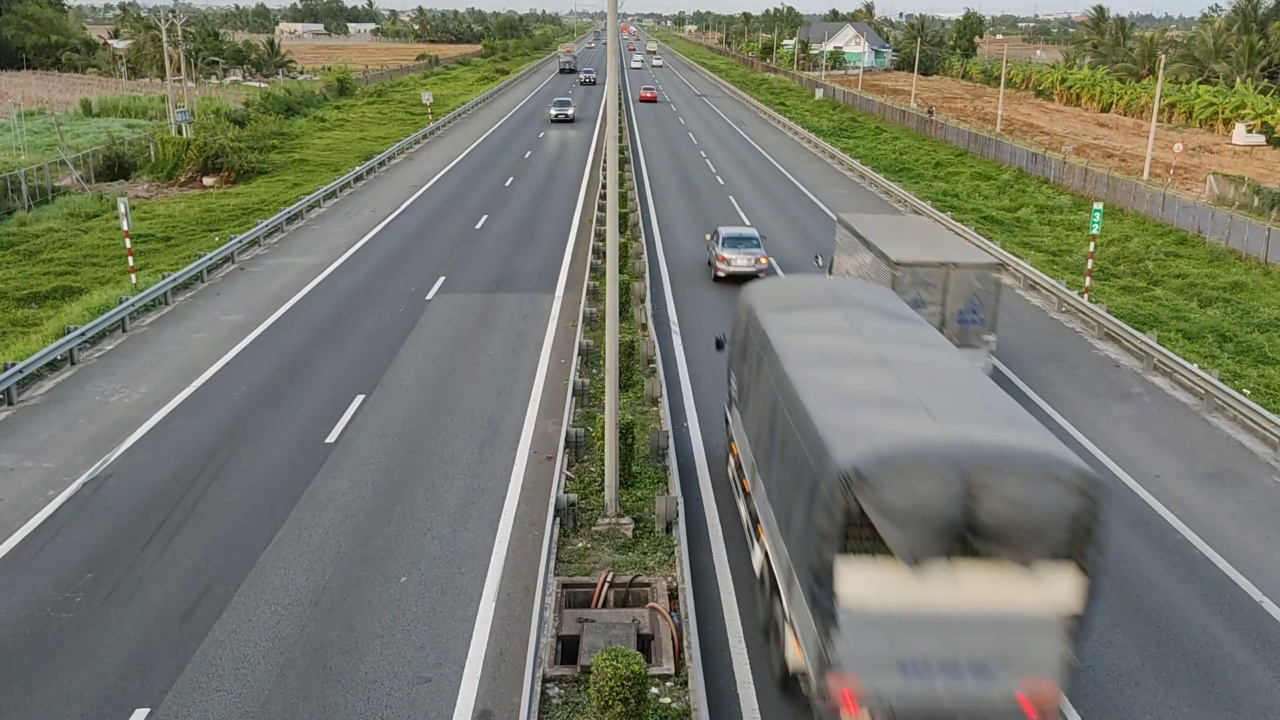car: (705, 225, 769, 280), (549, 97, 577, 123), (638, 85, 659, 103), (579, 67, 597, 85)
truck: (720, 274, 1103, 715)
